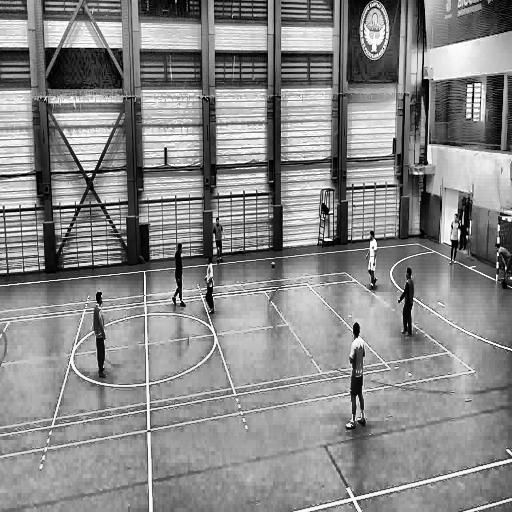ball: (269, 260, 277, 272)
player: (346, 322, 366, 430), (93, 291, 108, 379), (397, 266, 415, 338), (172, 243, 187, 309), (495, 241, 511, 292), (366, 231, 378, 292), (203, 256, 215, 316), (449, 212, 461, 266), (213, 216, 225, 266)
